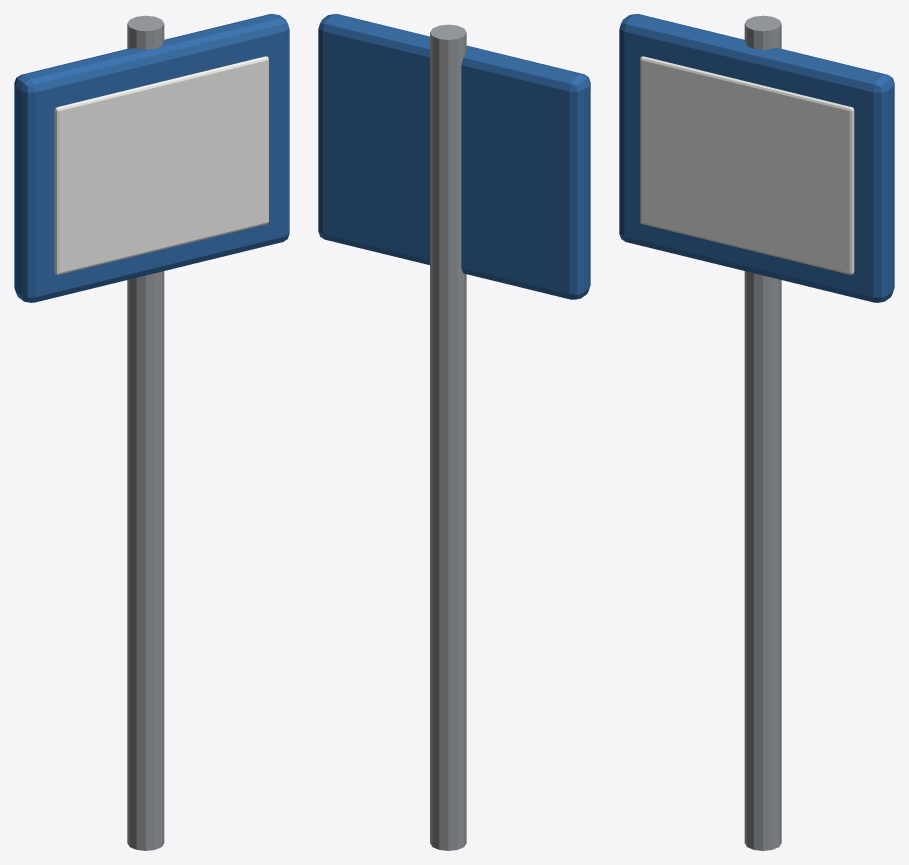
Rendered from road_sign.glb.
The picture shows the model from 3 angles, left to right: view 1: azimuth 30°, elevation 25°; view 2: azimuth 150°, elevation 25°; view 3: azimuth 330°, elevation 25°; orthographic projection.
Parts seen in each view (by area): view 1: Sign_Face, Sign_Board, Sign_Post; view 2: Sign_Board, Sign_Post; view 3: Sign_Face, Sign_Board, Sign_Post.
Part boxes in pixels (bbox=[...]): Sign_Face: bbox=[54, 56, 268, 274]; Sign_Board: bbox=[14, 14, 289, 302]; Sign_Post: bbox=[127, 15, 164, 850]; Sign_Board: bbox=[318, 14, 590, 299]; Sign_Post: bbox=[430, 24, 466, 850]; Sign_Face: bbox=[640, 56, 854, 274]; Sign_Board: bbox=[619, 14, 894, 302]; Sign_Post: bbox=[744, 15, 781, 850].
Size of the model in its own units: 0.75 by 2.2 by 0.1305.
